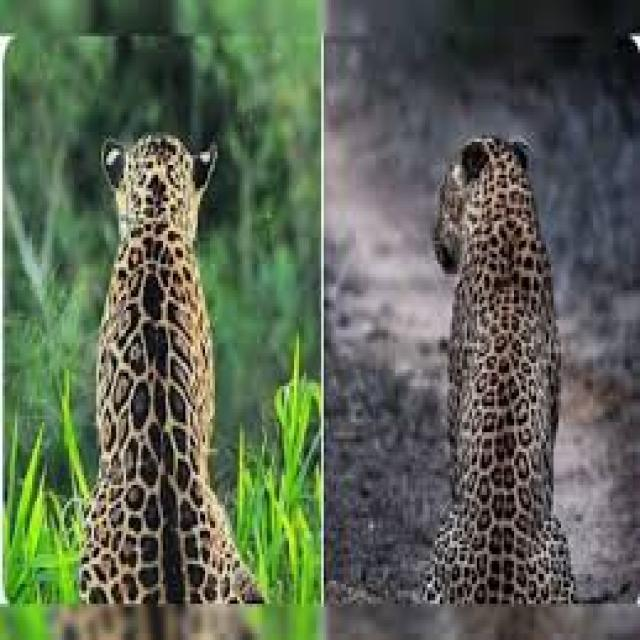Leopard: (80, 132, 264, 604), (426, 136, 577, 601)
